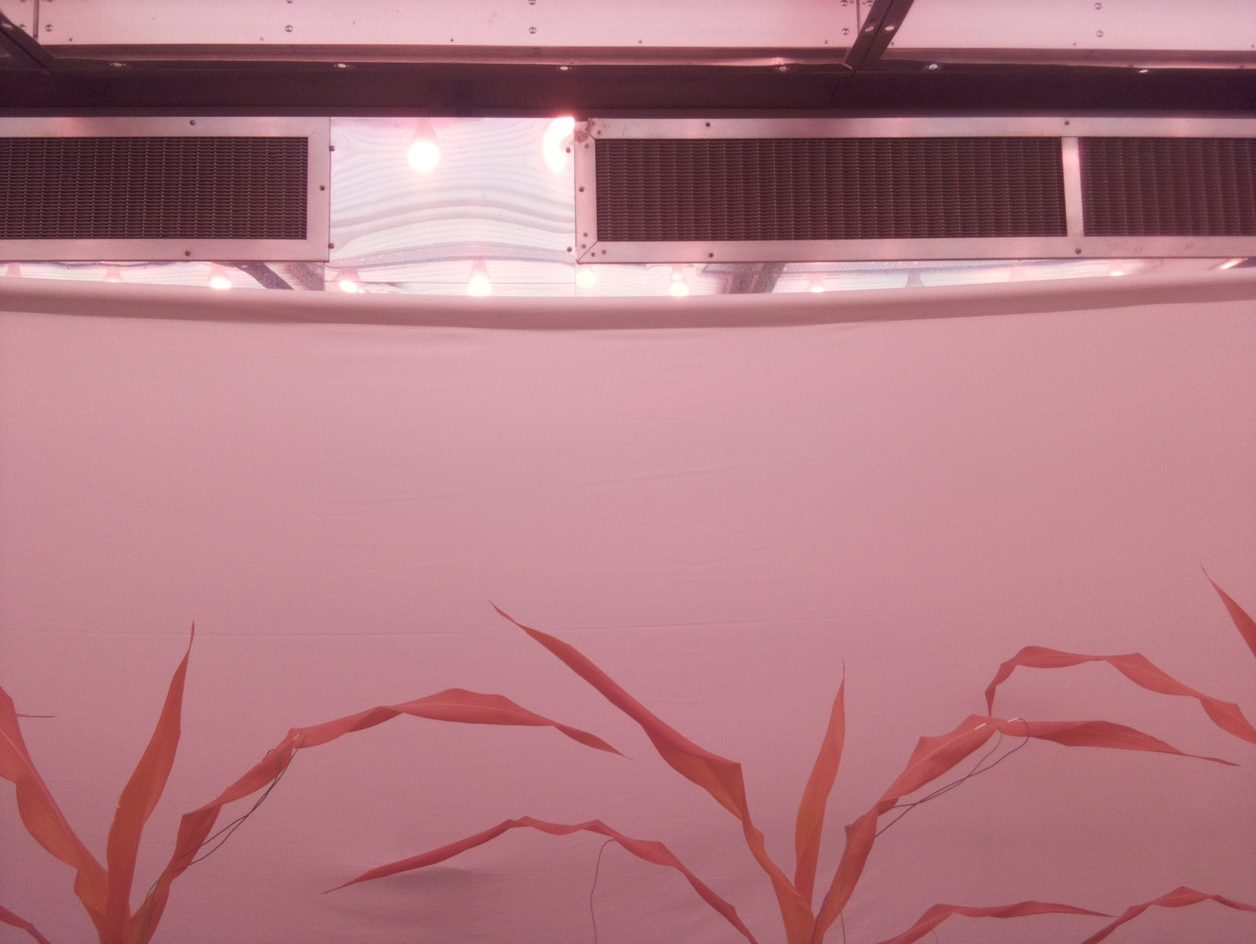maize: (322, 596, 1256, 944), (0, 617, 632, 944)
